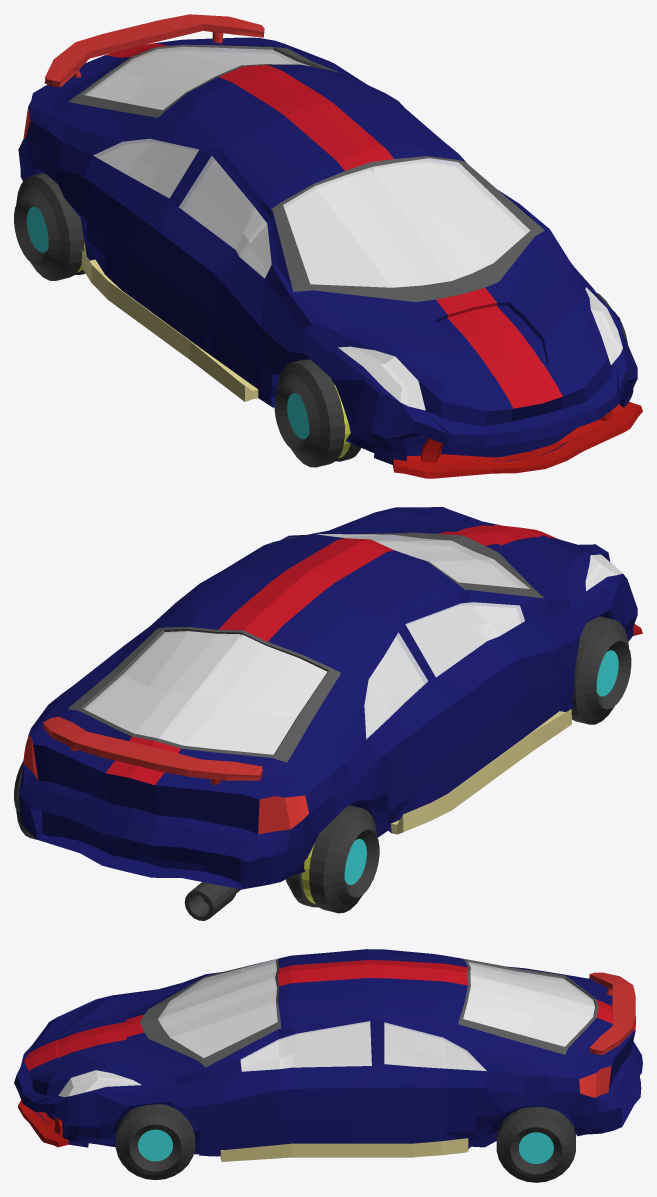
Rendered from Coche.fbx.
3 views of the same model, one above another, from view 1: azimuth 30°, elevation 25°; view 2: azimuth 150°, elevation 25°; view 3: azimuth 270°, elevation 25° (orthographic). The views are drawn at different scales.
Parts seen in each view (by area): view 1: Carroceria, FrontRightW, BackRightW; view 2: Carroceria, BackRightW, FrontRightW; view 3: Carroceria, BackLeftW, FrontleftW.
Part boxes in pixels (x1,y1,x2,y2): Carroceria: (18, 14, 642, 478); FrontRightW: (274, 359, 360, 467); BackRightW: (14, 173, 89, 280); Carroceria: (18, 507, 642, 920); BackRightW: (285, 805, 379, 913); FrontRightW: (571, 616, 631, 724); Carroceria: (14, 949, 642, 1161); BackLeftW: (496, 1107, 575, 1182); FrontleftW: (115, 1104, 195, 1179).
Size of the model in its own units: 138 by 84.16 by 295.
